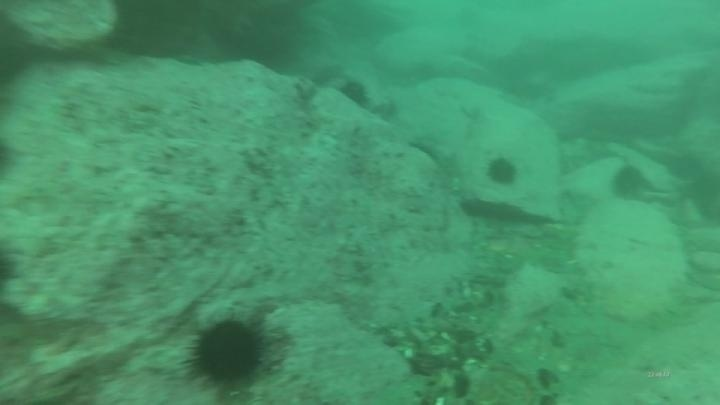echinus: (184, 314, 271, 390), (608, 163, 648, 203), (484, 155, 521, 190), (337, 77, 373, 112)
